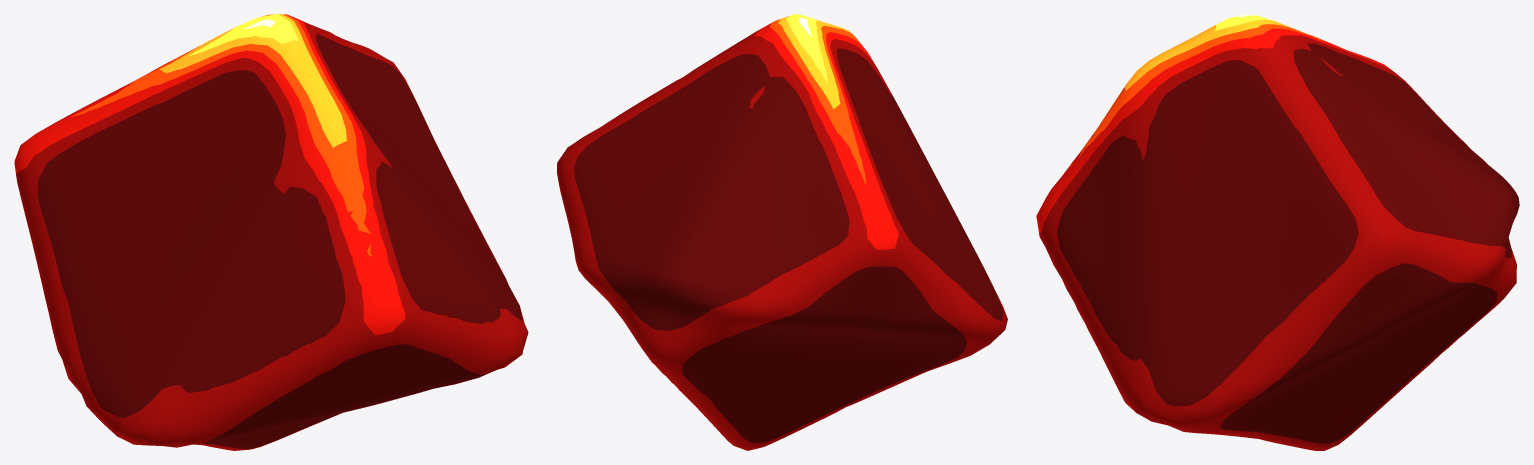
Rendered from molten_crystal_115.glb.
The picture shows the model from 3 angles, left to right: view 1: azimuth 30°, elevation 25°; view 2: azimuth 150°, elevation 25°; view 3: azimuth 270°, elevation 25°; orthographic projection. The views are drawn at different scales.
Visible parts, largest first — view 1: molten_crystal_115; view 2: molten_crystal_115; view 3: molten_crystal_115.
Boxes of the visible parts, x1,y1,x2,y2 form: molten_crystal_115: (14,14,528,450); molten_crystal_115: (557,14,1007,450); molten_crystal_115: (1036,14,1519,450).
Bounding box in the file's own units: 19.91 × 20.48 × 21.11.
